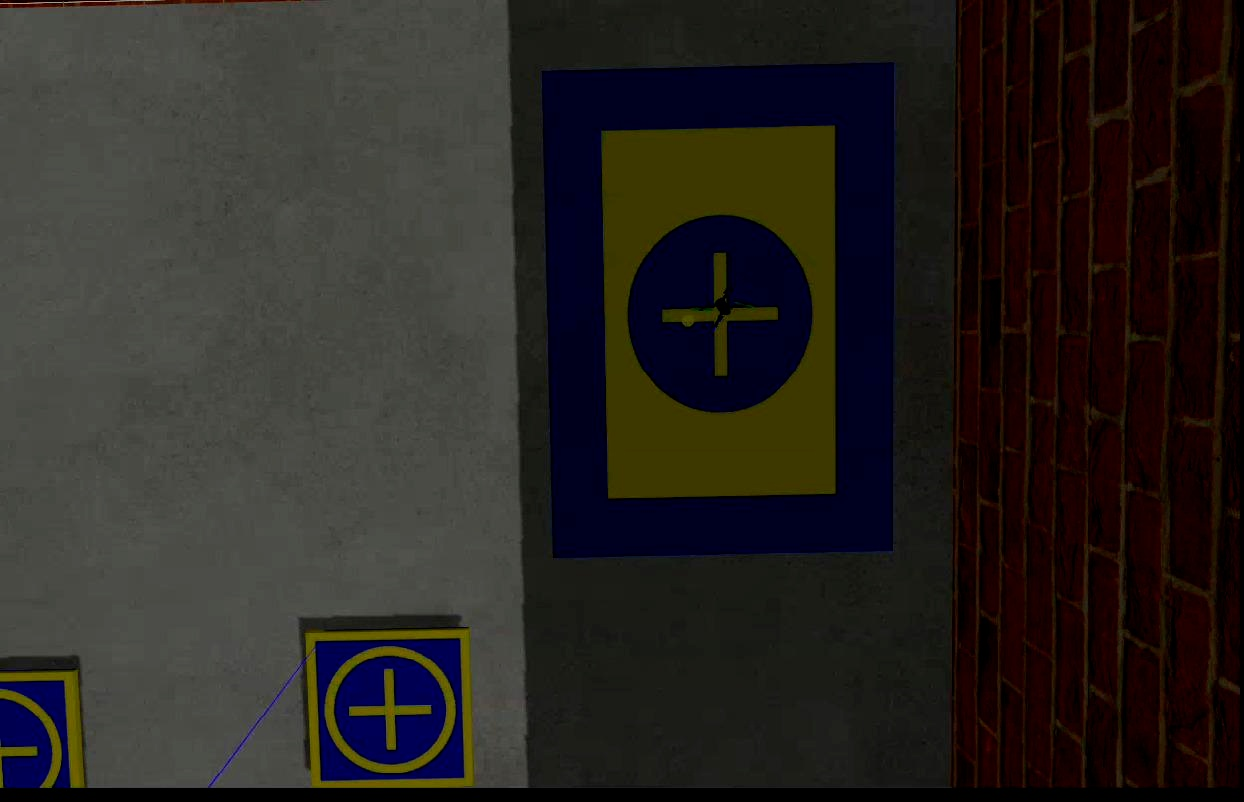large_base: (542, 64, 893, 558)
small_base: (304, 630, 476, 785), (0, 666, 86, 792)
